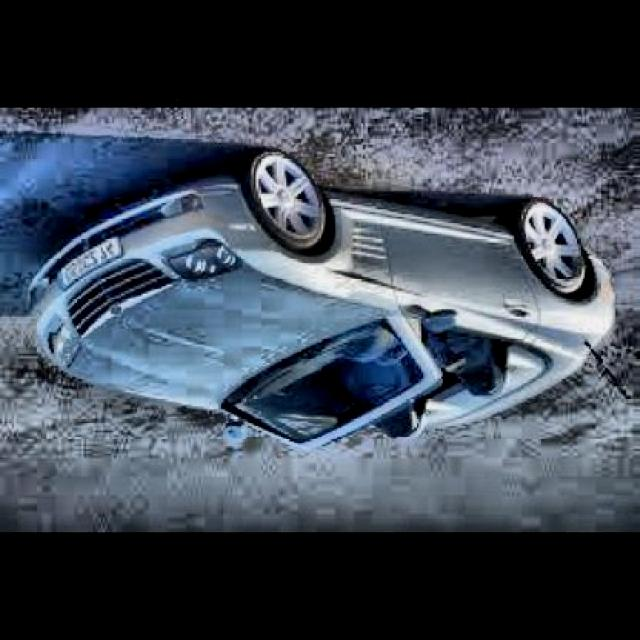silver: (21, 155, 624, 455)
